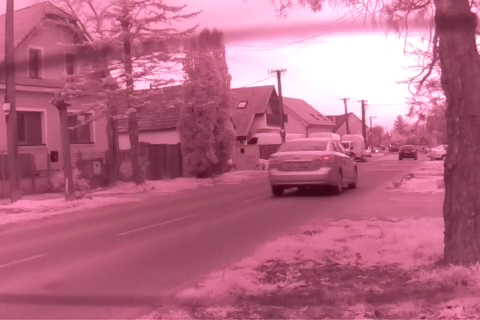car: (266, 136, 361, 200), (396, 143, 419, 162)
